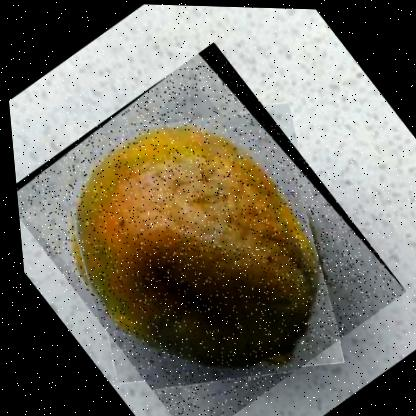orange_rotten: (2, 35, 411, 415)
